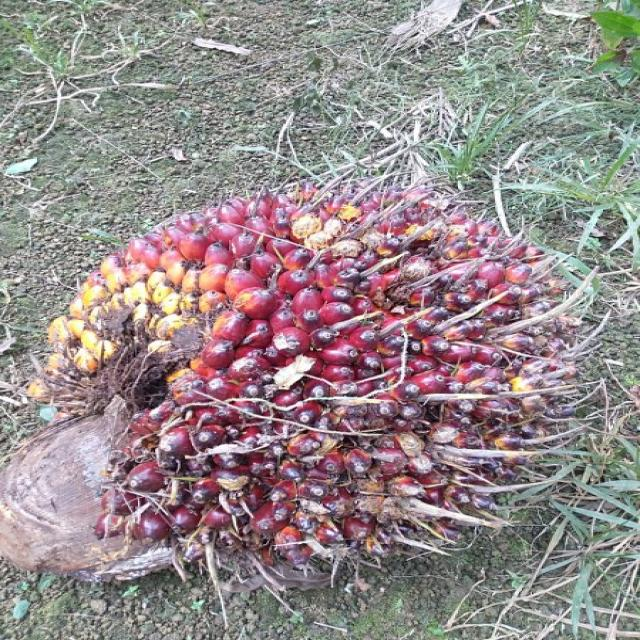fraksi 1: (18, 125, 608, 596)
